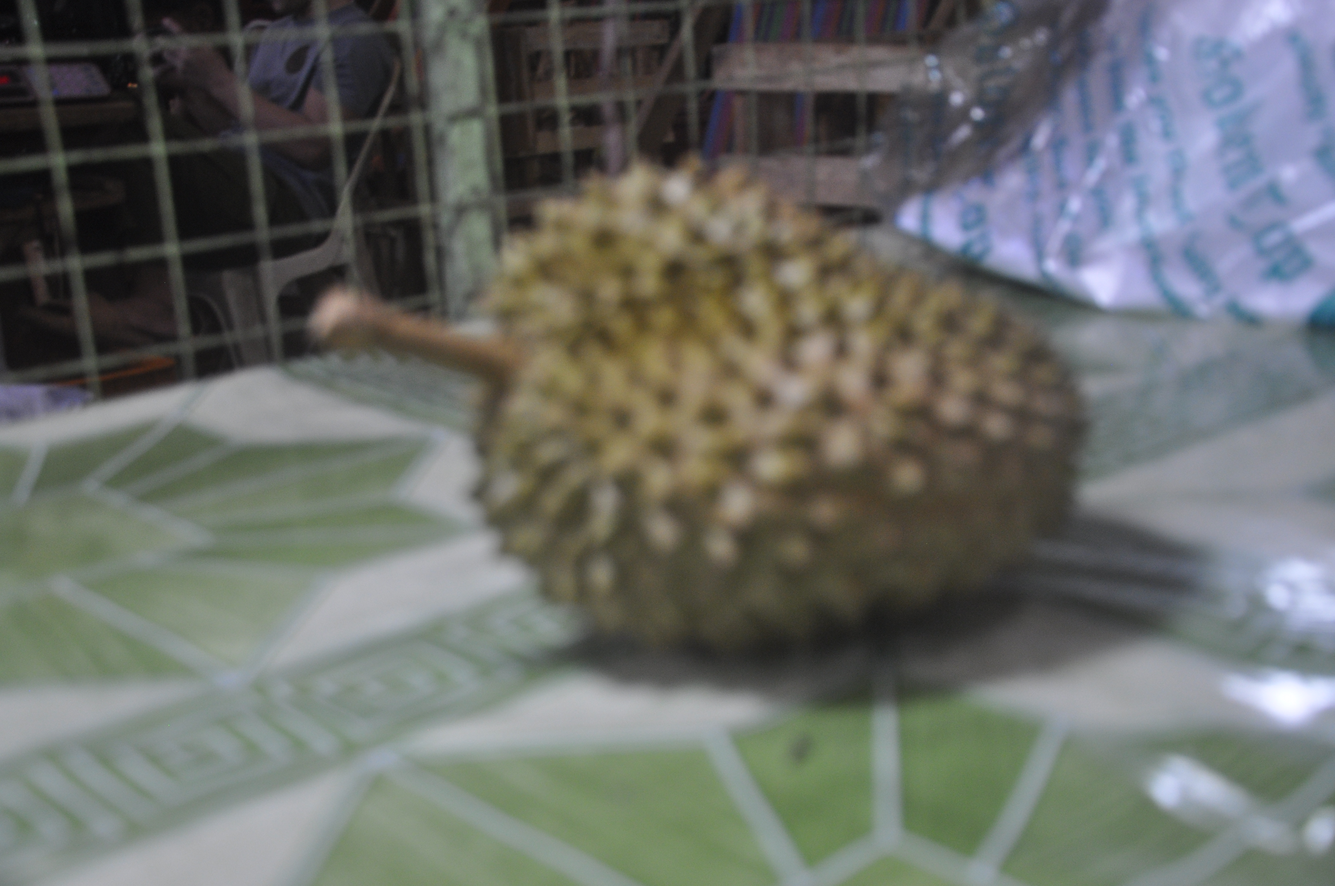mature: (312, 161, 1083, 650)
